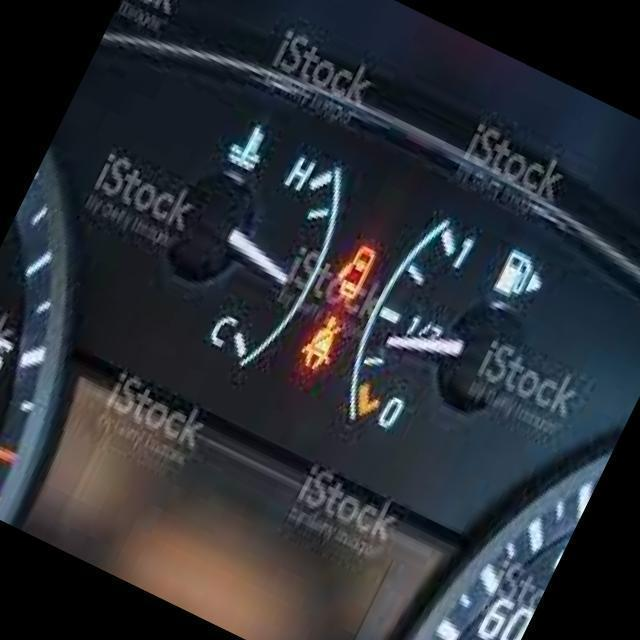Seat Belt: (296, 311, 345, 374)
